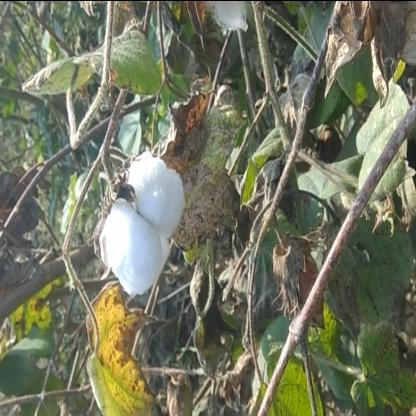cotton_ready: (92, 156, 188, 298)
